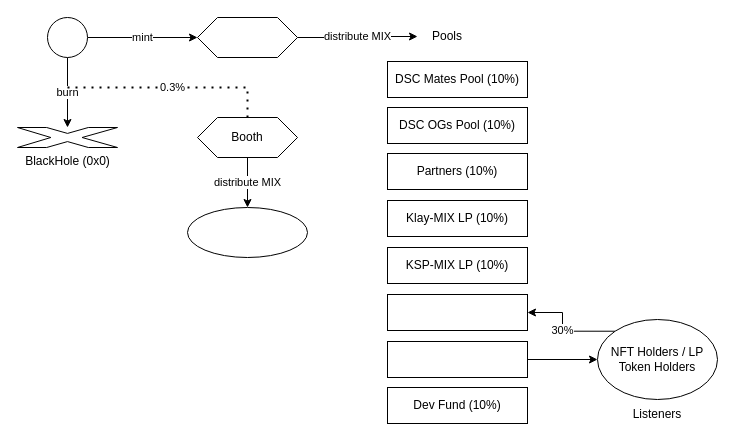
This 735x447 diagram has some shape labels left out. Here are the shapes that lost their labels. From the top down, the centre of each, then its label:
At [67,37]: "MIX".
At [247,37]: "MIX Emitter".
At [247,232]: "MIXSET Holders".
At [457,312]: "Turntables (20%)".
At [457,359]: "Listeners (20%)".
